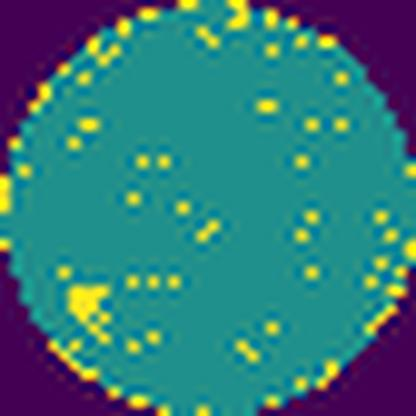Loc: (66, 285, 114, 341)
